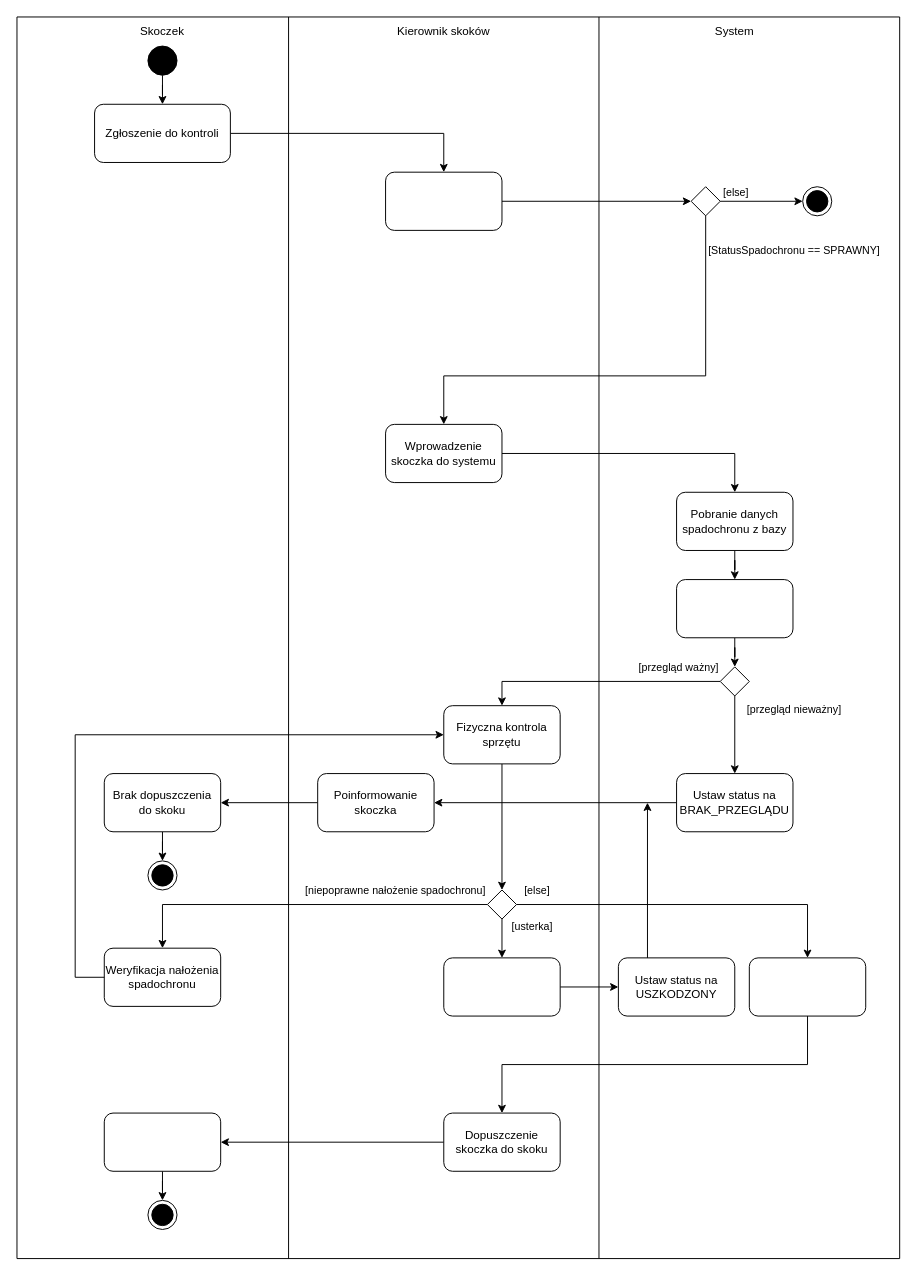
This 917x1277 diagram has some shape labels left out. The shapes that lost their labels are listed below. From the top down, each one's centre as x and y in pixels, then its label:
the point at 443,200: Inicjalizacja Gear Check w systemie
the point at 734,608: Sprawdzenie ważności przeglądu
the point at 501,986: Zgłoszenie usterki w systemie
the point at 807,986: Rejestracja wykonania Gear Check
the point at 162,1141: Oczekiwanie na wylot
